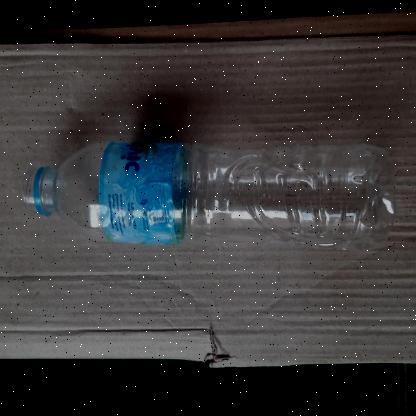Plastic Bottle: (23, 138, 399, 252)
